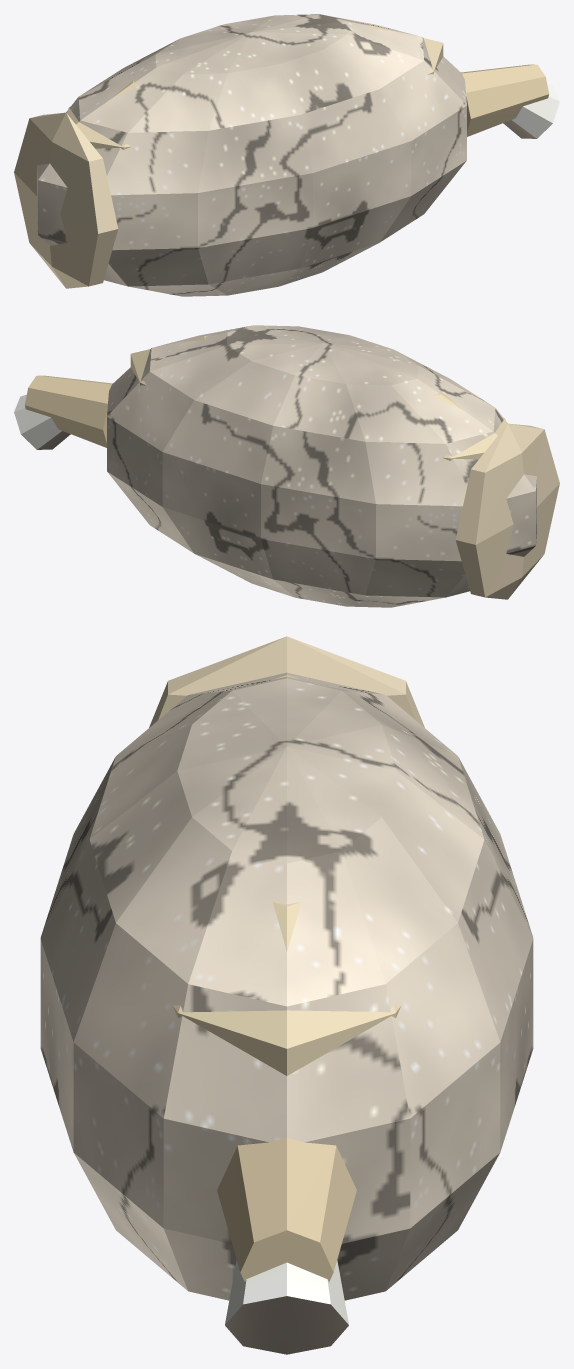
Rendered from prosciutto.obj.
3 views of the same model, one above another, from view 1: azimuth 30°, elevation 25°; view 2: azimuth 150°, elevation 25°; view 3: azimuth 270°, elevation 25° (orthographic). The views are drawn at different scales.
Parts seen in each view (by area): view 1: prosciutto; view 2: prosciutto; view 3: prosciutto.
Part boxes in pixels (<box>): prosciutto: <box>14,14,559,296</box>; prosciutto: <box>14,325,559,607</box>; prosciutto: <box>40,636,533,1354</box>.
Bounding box in the file's own units: 0.3063 × 0.14 × 0.1268.
5 materials, 2 textured.
